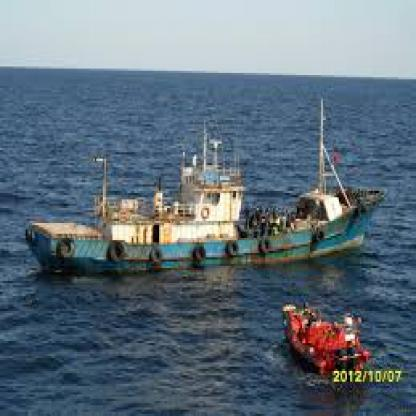fish-b: (21, 92, 392, 288)
